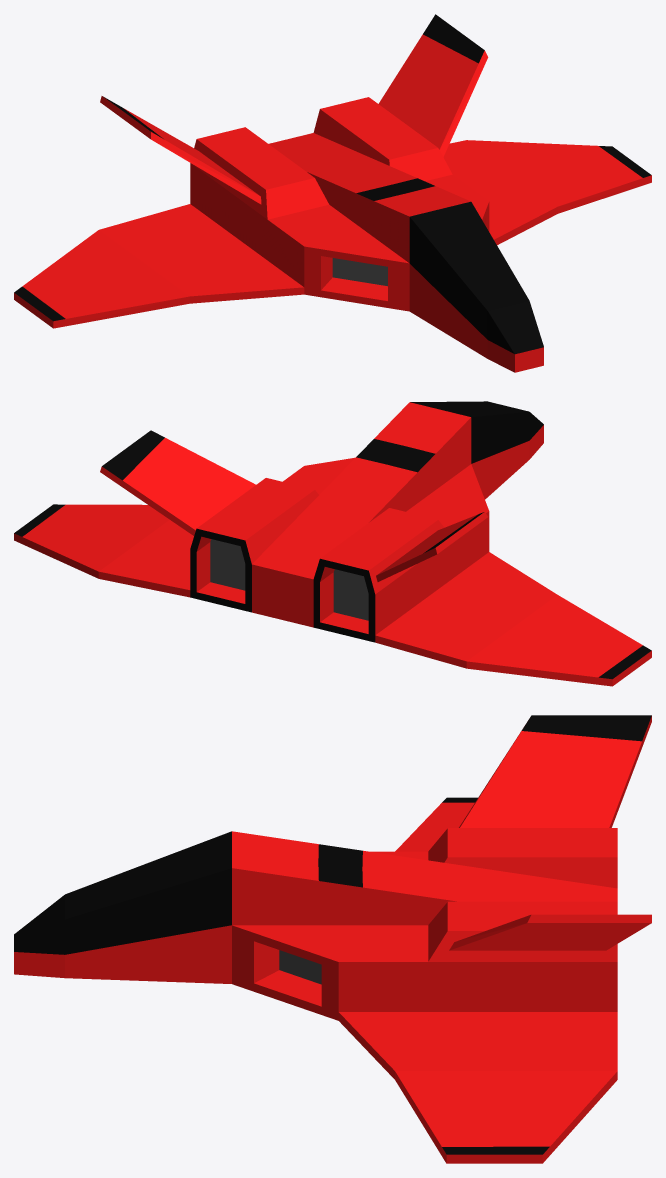
File: Fighter Ship.FBX
3 renders of one model, top to bottom at view 1: azimuth 30°, elevation 25°; view 2: azimuth 150°, elevation 25°; view 3: azimuth 270°, elevation 25°, orthographic. The views are drawn at different scales.
Parts seen in each view (by area): view 1: Box002; view 2: Box002; view 3: Box002.
Part boxes in pixels (left/top/right/bottom): Box002: left=14, top=14, right=651, bottom=372; Box002: left=14, top=401, right=651, bottom=686; Box002: left=14, top=715, right=651, bottom=1163.
Size of the model in its own units: 80.63 by 17.91 by 60.87.
